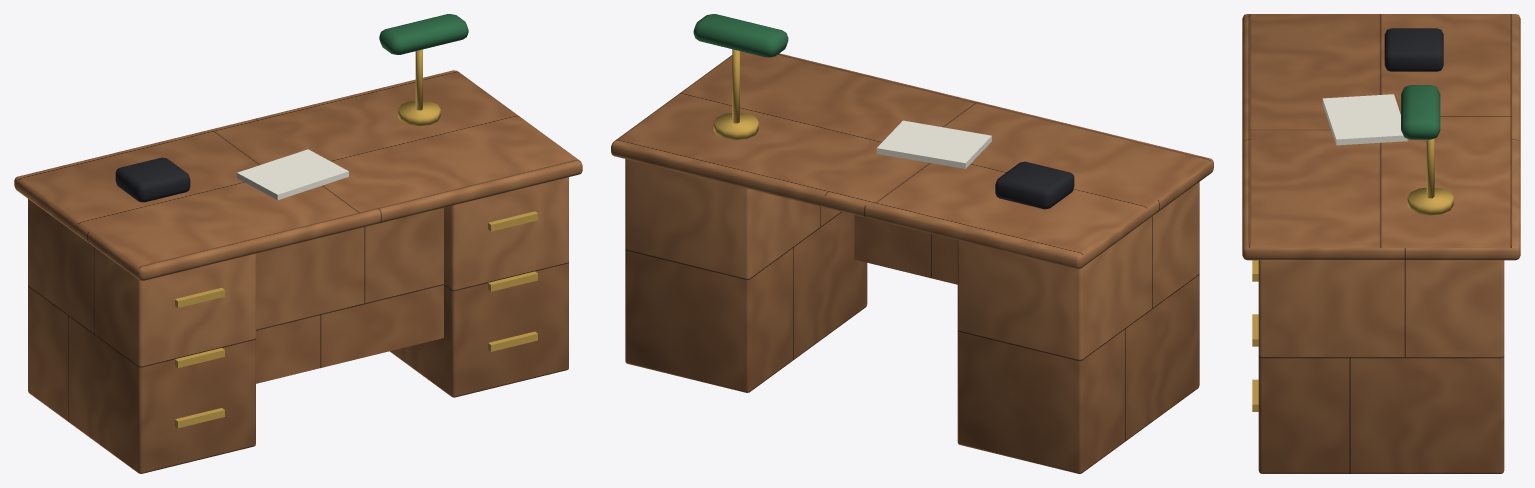
The model's file is exec_desk.gltf.
3 renders of one model, left to right at view 1: azimuth 30°, elevation 25°; view 2: azimuth 150°, elevation 25°; view 3: azimuth 270°, elevation 25°, orthographic. The views are drawn at different scales.
Visible parts, largest first — view 1: exec_desk_mesh; view 2: exec_desk_mesh; view 3: exec_desk_mesh.
Part boxes in pixels (box(x1,y1,x2,y2)): exec_desk_mesh: box(14, 14, 582, 473); exec_desk_mesh: box(611, 14, 1213, 473); exec_desk_mesh: box(1242, 14, 1520, 473).
Size of the model in its own units: 1.7 by 1.13 by 0.85.
5 materials, 1 textured.
